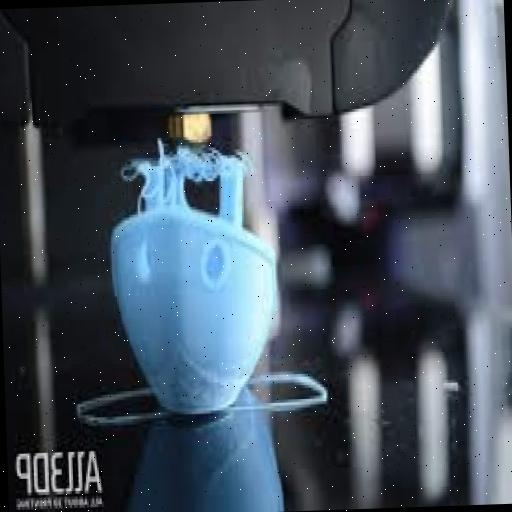spaghetti: (132, 124, 243, 202)
